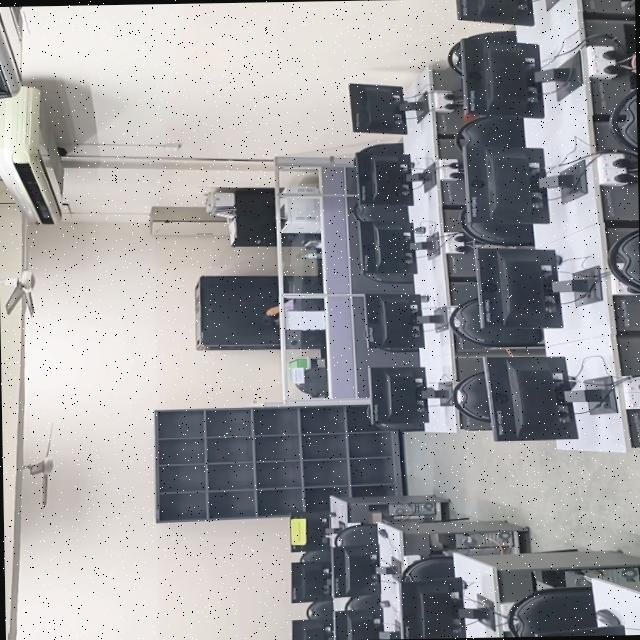Ac: (0, 92, 71, 224), (0, 5, 32, 94)
Chair: (502, 586, 589, 632), (602, 228, 640, 292), (605, 86, 637, 156), (450, 370, 490, 422), (445, 298, 480, 342), (398, 552, 452, 578), (333, 518, 377, 546)
Cpu: (540, 566, 640, 588), (437, 529, 512, 549), (377, 501, 439, 518)
Monitor: (477, 238, 581, 330), (493, 356, 594, 440), (460, 39, 559, 116), (460, 148, 554, 228), (364, 366, 438, 422), (364, 292, 435, 348), (400, 580, 460, 638), (364, 220, 415, 272), (362, 154, 411, 207), (351, 83, 404, 130), (334, 548, 384, 597), (456, 0, 560, 23), (288, 560, 331, 602), (290, 512, 334, 551), (333, 607, 384, 640), (291, 617, 336, 640)
Mouse: (588, 605, 621, 626), (375, 528, 393, 538), (380, 598, 392, 609)
